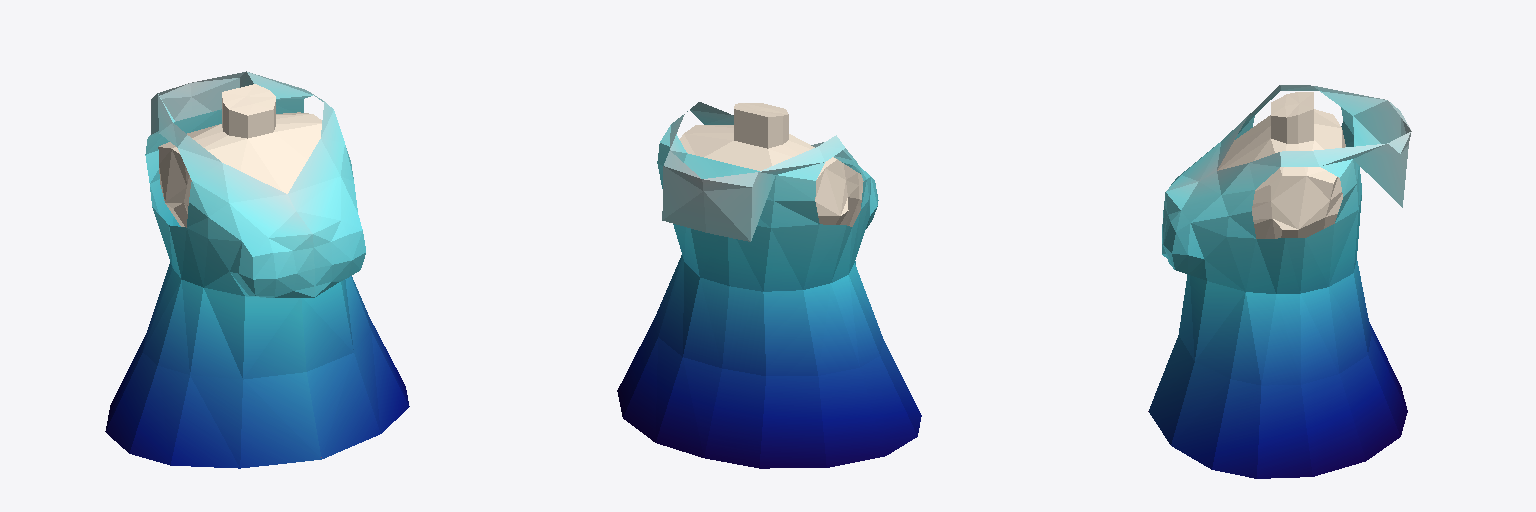
The picture shows the model from 3 angles: view 1: azimuth 30°, elevation 25°; view 2: azimuth 150°, elevation 25°; view 3: azimuth 270°, elevation 25°; orthographic projection.
Parts seen in each view (by area): view 1: Body; view 2: Body; view 3: Body.
Boxes of the visible parts, <box> form: Body: <box>105,71,409,468</box>; Body: <box>617,102,921,468</box>; Body: <box>1148,85,1411,478</box>.
Size of the model in its own units: 1.27 by 1.36 by 1.04.
Materials: 1 (1 with a texture image).